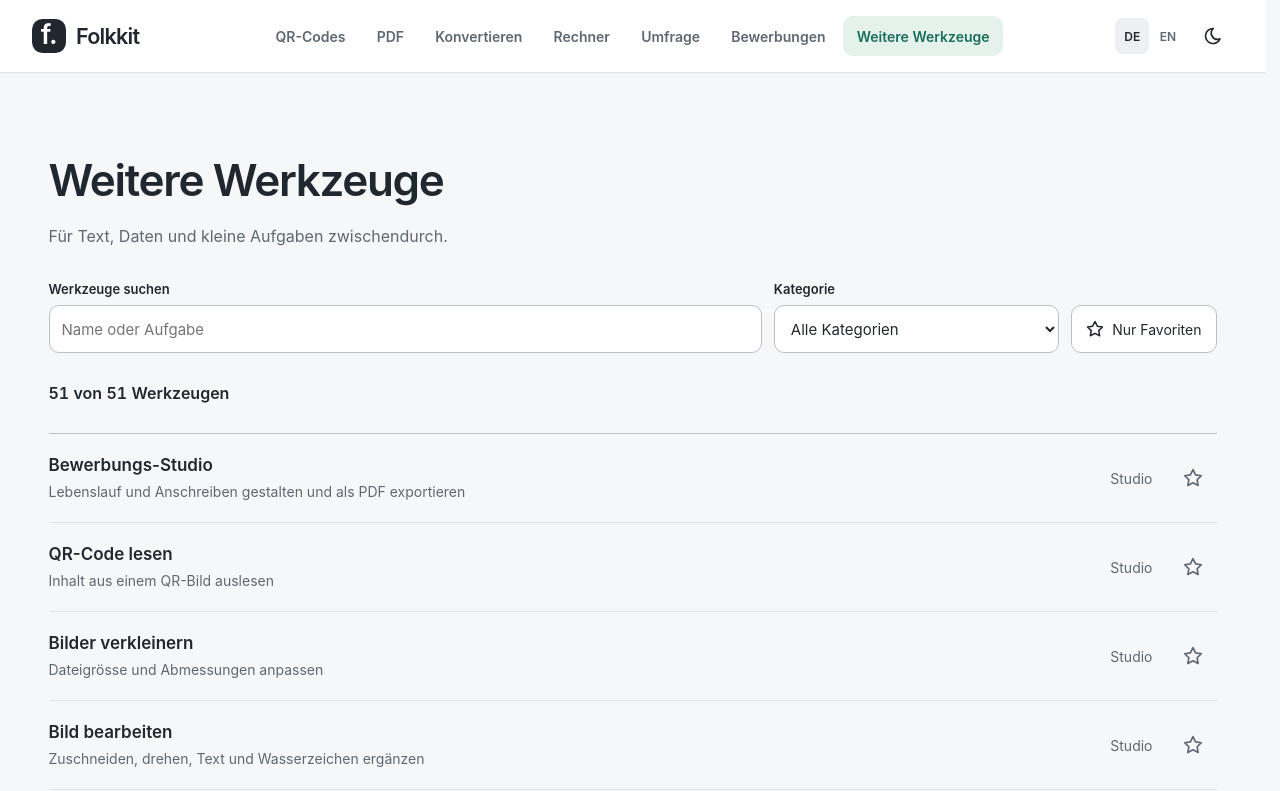
Test: calculation tools live in their hub with integrated fields
This screenshot has width=1280, height=791.
What coordinates should you click on to do the following:
click the link "Rechner"
I would click on:
 (582, 36)
Its box is [554,28,610,44].
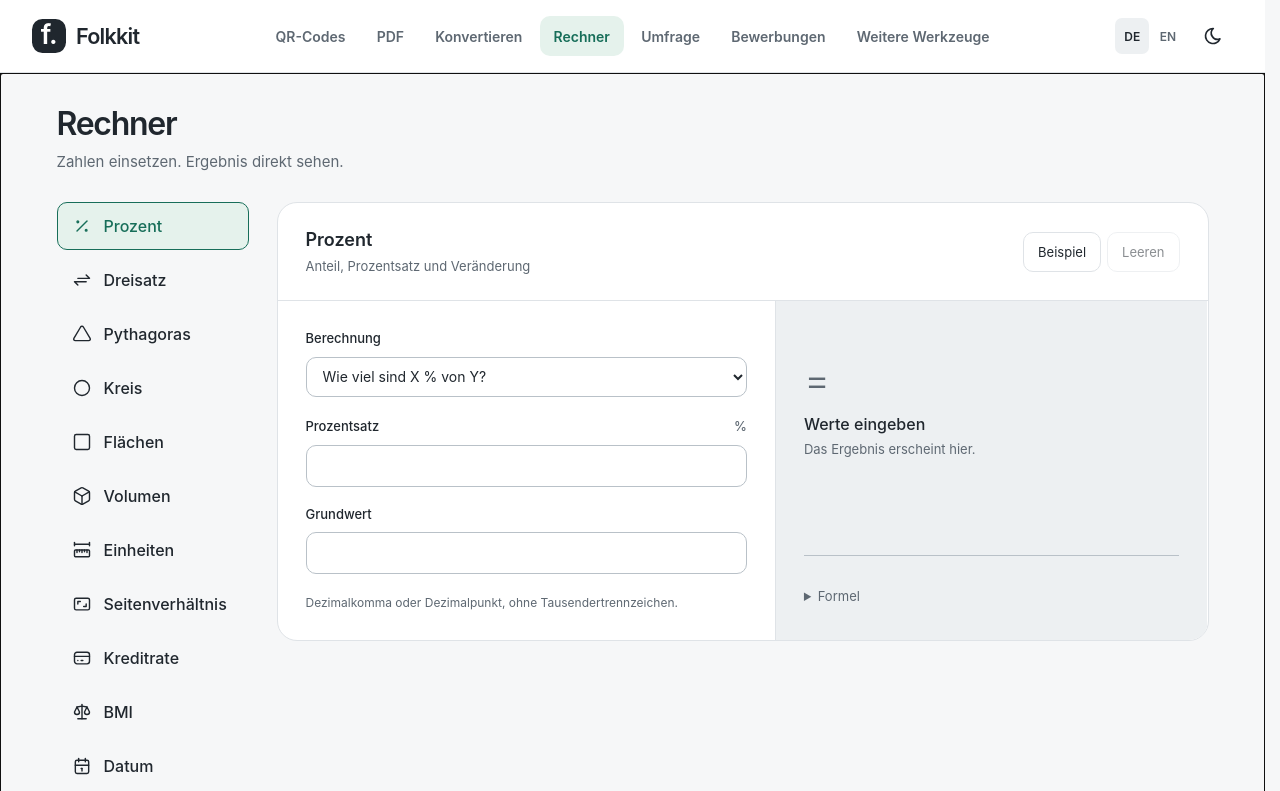
What coordinates should you click on to do the following:
click the button "BMI"
I would click on:
 (152, 712)
Its box is [56,688,248,736].
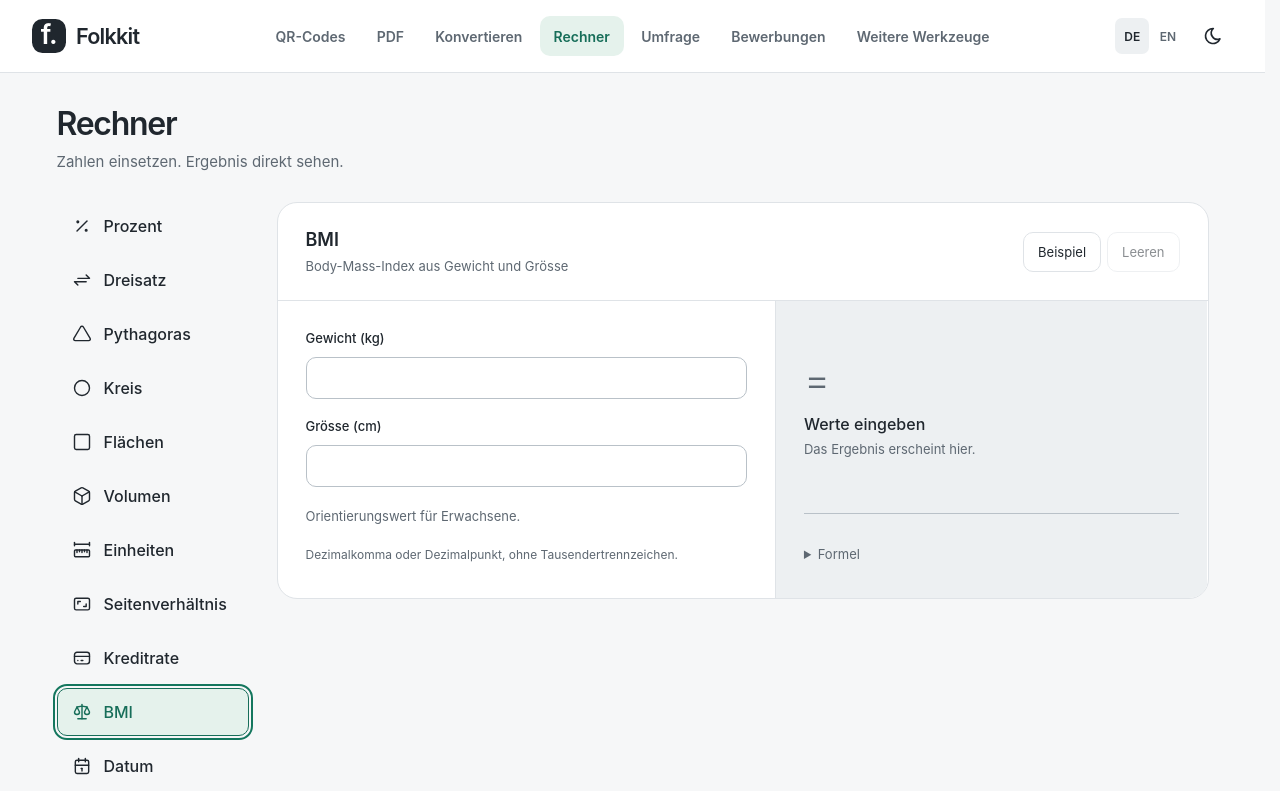
Now the field labelled "Gewicht (kg)" is shown, box [306,357,747,399]
